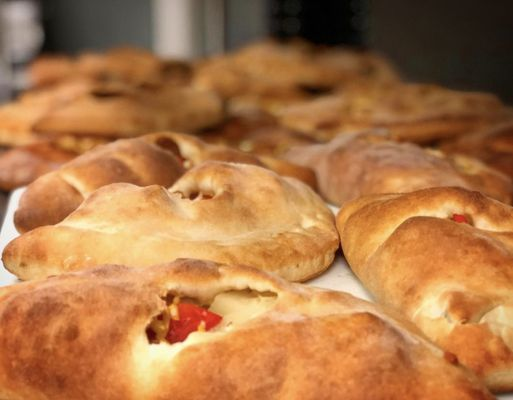salad: (336, 186, 513, 389), (12, 132, 206, 236)
